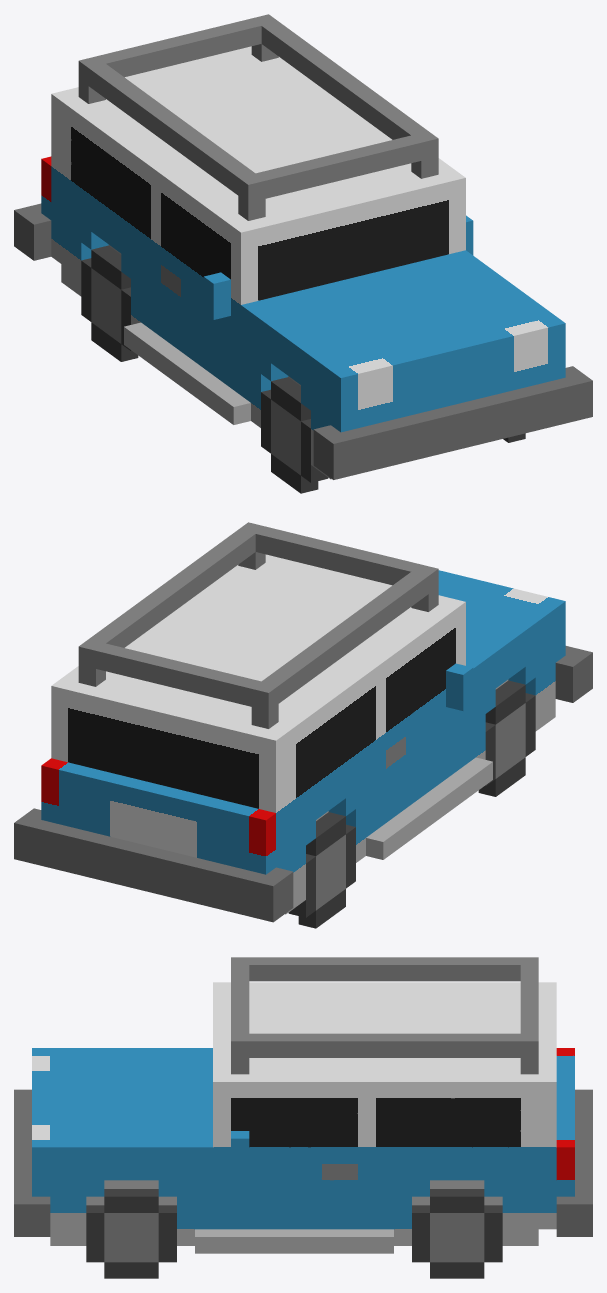
The model's file is veh_suv2.dae.
3 renders of one model, top to bottom at view 1: azimuth 30°, elevation 25°; view 2: azimuth 150°, elevation 25°; view 3: azimuth 270°, elevation 25°, orthographic. The views are drawn at different scales.
Visible parts, largest first — view 1: veh_suv2; view 2: veh_suv2; view 3: veh_suv2.
Part boxes in pixels (box(x1,y1,x2,y2)): veh_suv2: box(14, 14, 592, 493); veh_suv2: box(14, 522, 592, 928); veh_suv2: box(14, 957, 592, 1278).
Size of the model in its own units: 1.5 by 3.2 by 1.4.
1 material, 1 textured.
